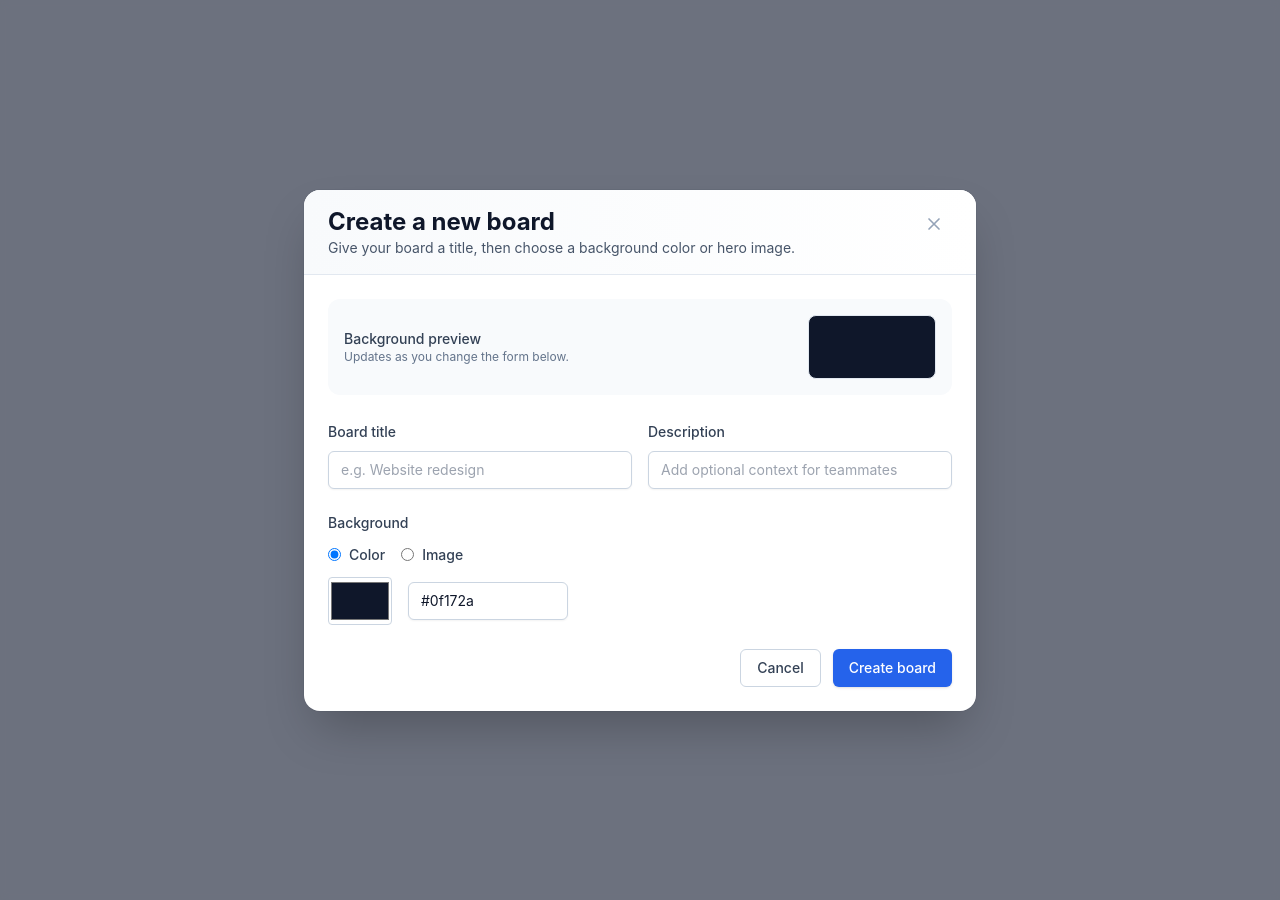
Scenario: BoardCreateModal › allows switching to image background type
What coordinates should you click on to do the following:
click the radio button labelled "Image"
I would click on:
 (408, 554)
Its box is [401, 548, 414, 561].
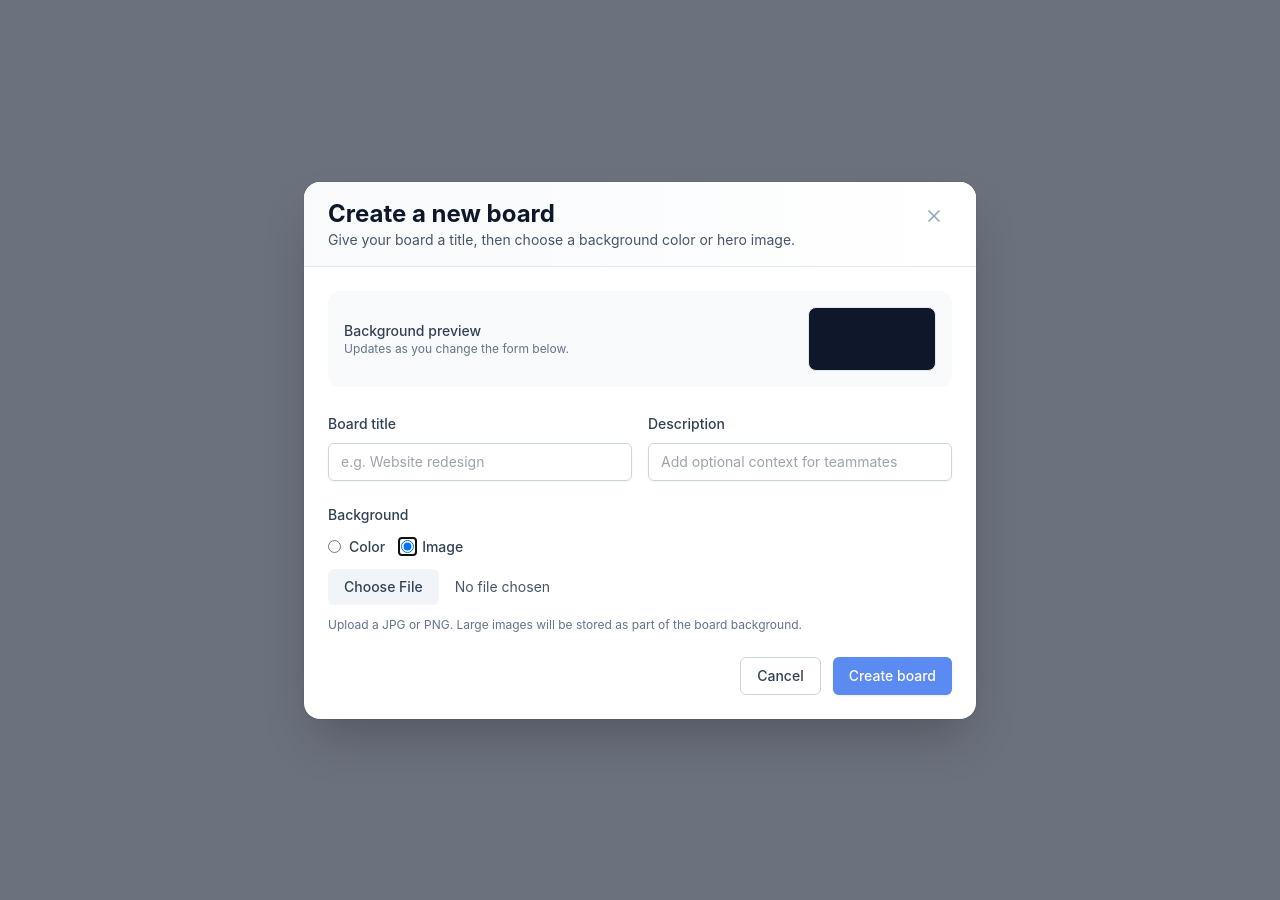
Expected: the text "Upload a JPG or PNG" is shown, [328, 616, 802, 632]
